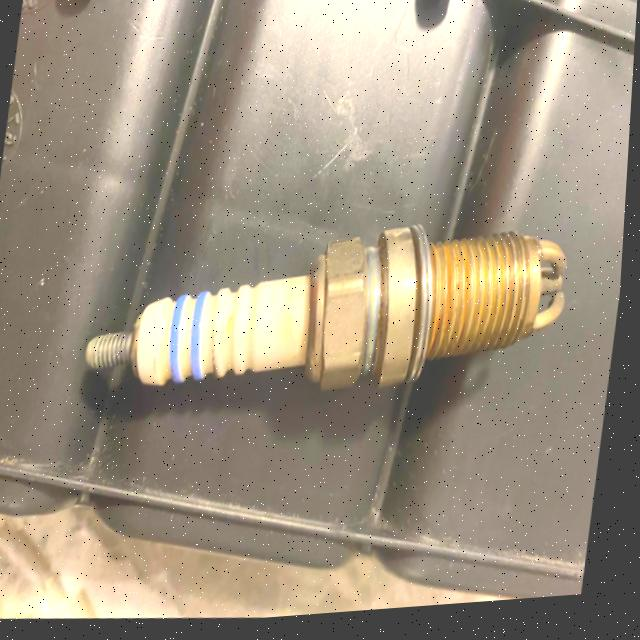spark-plug: (81, 189, 567, 456)
